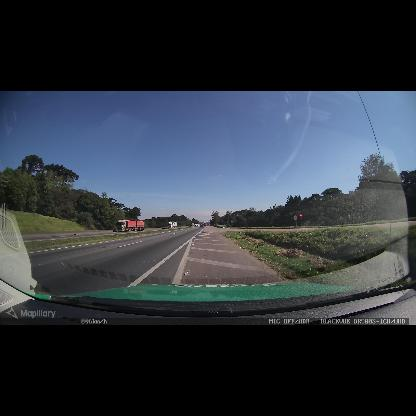R-2: (299, 214, 303, 220)
R-24a: (294, 215, 297, 221)
